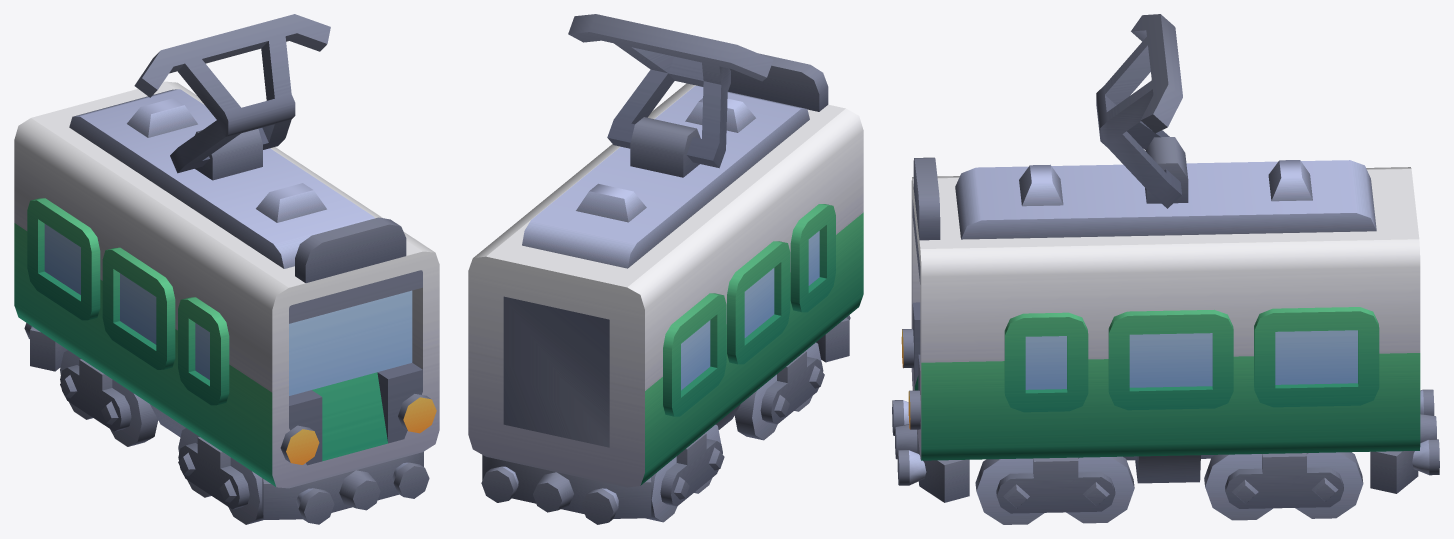
The model's file is train.gltf.
3 renders of one model, left to right at view 1: azimuth 30°, elevation 25°; view 2: azimuth 150°, elevation 25°; view 3: azimuth 270°, elevation 25°, orthographic. The views are drawn at different scales.
Visible parts, largest first — view 1: train-electric-square-a, collector, wheels-back, wheels-front; view 2: train-electric-square-a, collector, wheels-front, wheels-back; view 3: train-electric-square-a, collector, wheels-back, wheels-front.
Boxes of the visible parts, <box> form: train-electric-square-a: <box>14,81,439,524</box>; collector: <box>134,14,330,173</box>; wheels-back: <box>60,350,158,446</box>; wheels-front: <box>178,428,263,524</box>; train-electric-square-a: <box>468,53,863,524</box>; collector: <box>568,14,773,168</box>; wheels-front: <box>734,342,824,440</box>; wheels-back: <box>646,424,724,522</box>; train-electric-square-a: <box>892,137,1439,502</box>; collector: <box>1096,14,1182,208</box>; wheels-back: <box>1204,452,1363,520</box>; wheels-front: <box>975,456,1134,524</box>.
Bounding box in the file's own units: 1.18 × 2.32 × 2.63.
1 material, 1 textured.
